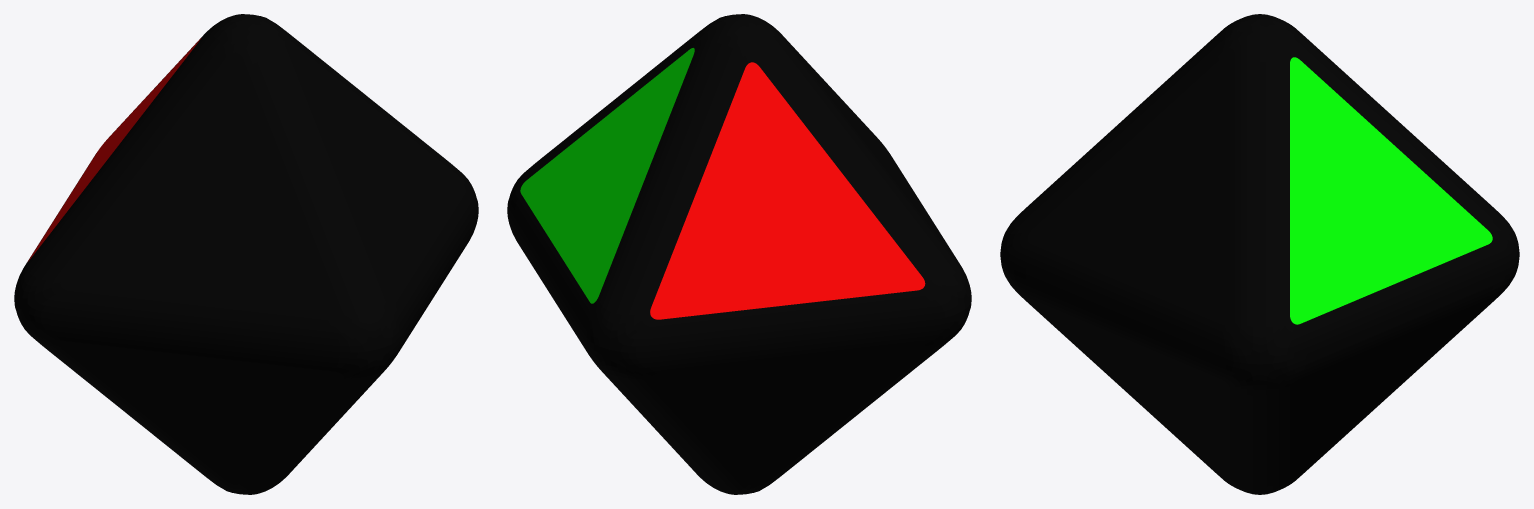
The picture shows the model from 3 angles, left to right: view 1: azimuth 30°, elevation 25°; view 2: azimuth 150°, elevation 25°; view 3: azimuth 270°, elevation 25°; orthographic projection.
Visible parts, largest first — view 1: fu; view 2: fu; view 3: fu.
Boxes of the visible parts, x1,y1,x2,y2 form: fu: (14, 14, 478, 494); fu: (507, 14, 971, 494); fu: (1000, 14, 1519, 494).
Bounding box in the file's own units: 174 × 174 × 174.
